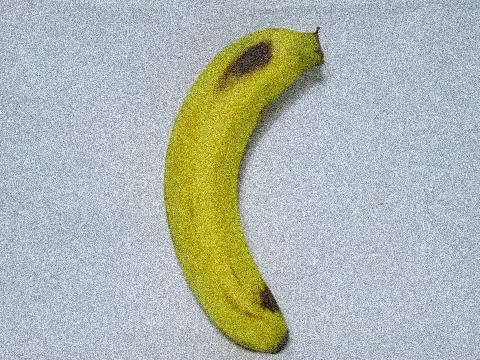freshripe: (151, 15, 336, 359)
